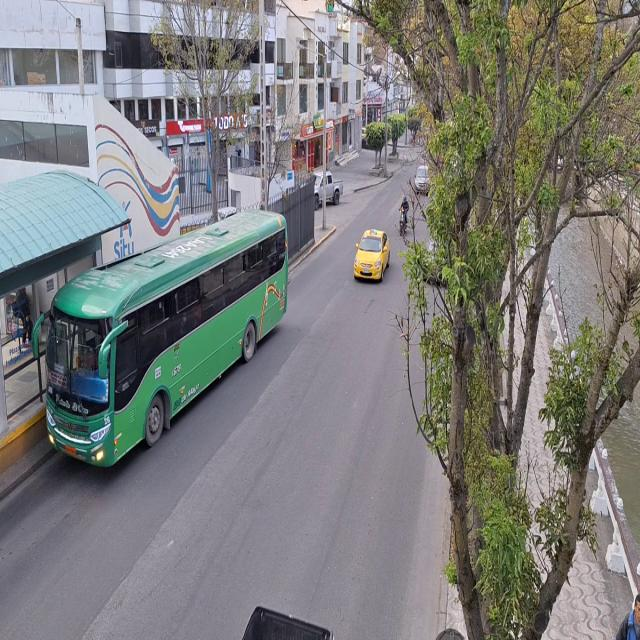BUS: (36, 216, 280, 470)
SED: (355, 232, 385, 285)
